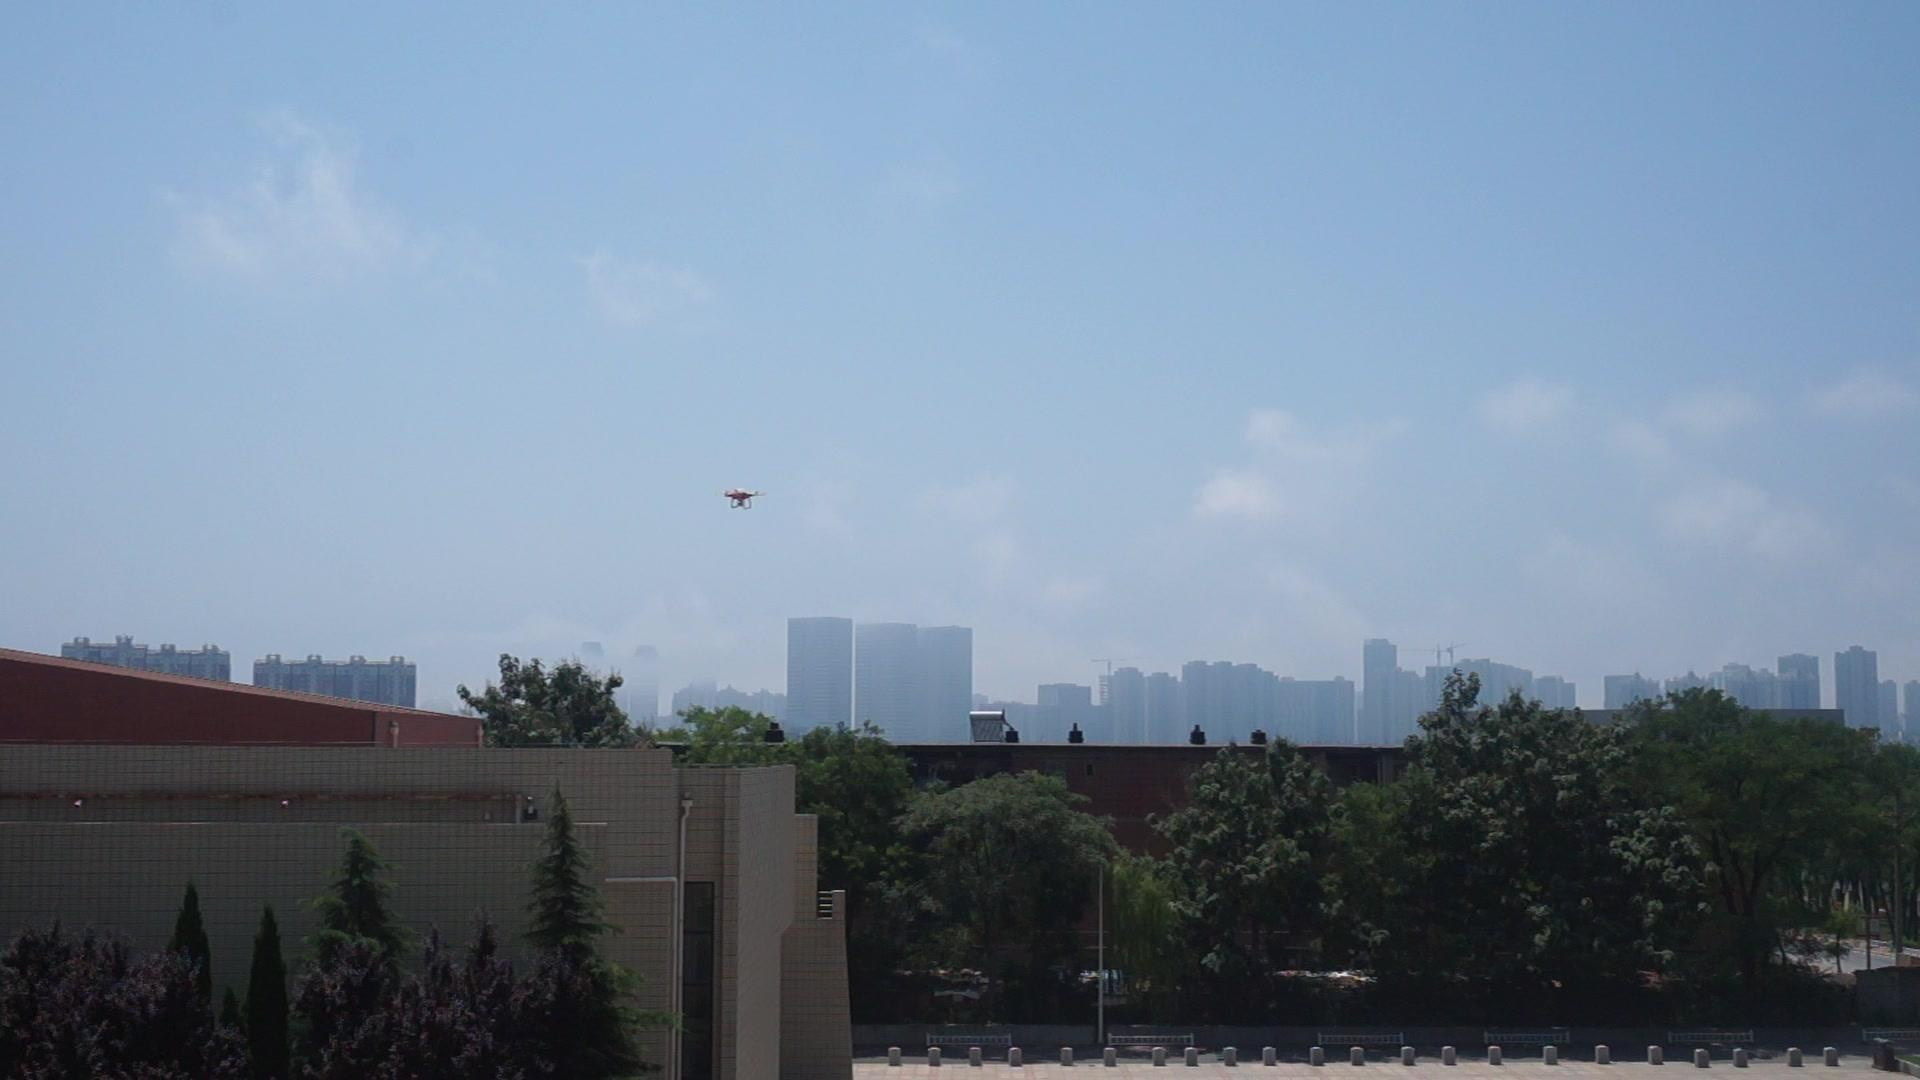UAV: (723, 489, 767, 512)
